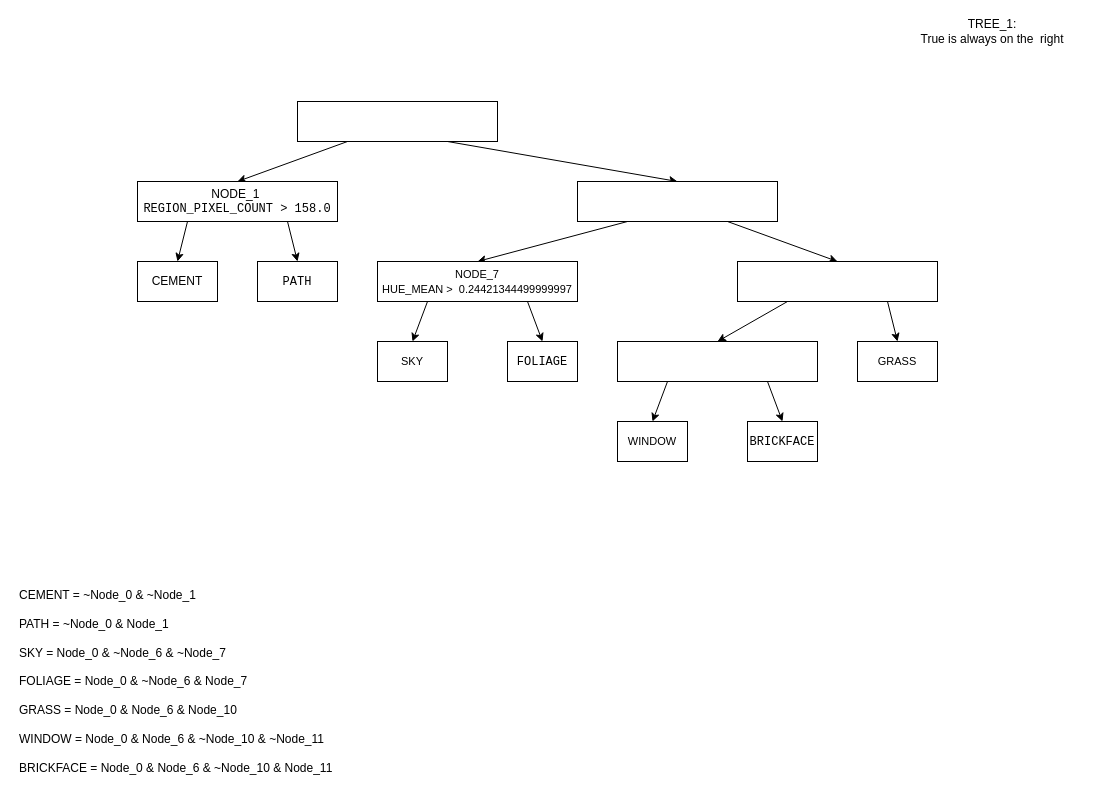
This 1114x799 diagram has some shape labels left out. Here are the shapes that lost their labels. From the top down, the box of each, then its label:
(296, 100, 498, 142): NODE_0 VALUE_MEAN >= -15.055556
(576, 180, 778, 222): NODE_6: Col19 > -2.07155625
(736, 260, 938, 302): NODE_10 Col19 > 0.9914934
(616, 340, 818, 382): NODE_11 EXBLUE_MEAN > 1.38888885
